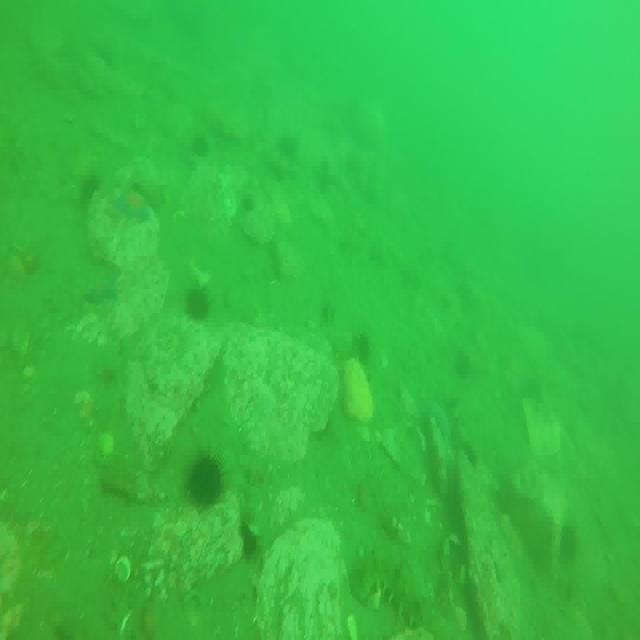echinus: (188, 457, 220, 507), (240, 521, 262, 562), (353, 332, 374, 373), (558, 522, 580, 561), (187, 287, 210, 322), (192, 130, 210, 156), (243, 190, 256, 216)
holothurian: (354, 554, 422, 625)
starfish: (85, 266, 120, 306), (118, 185, 148, 229)
